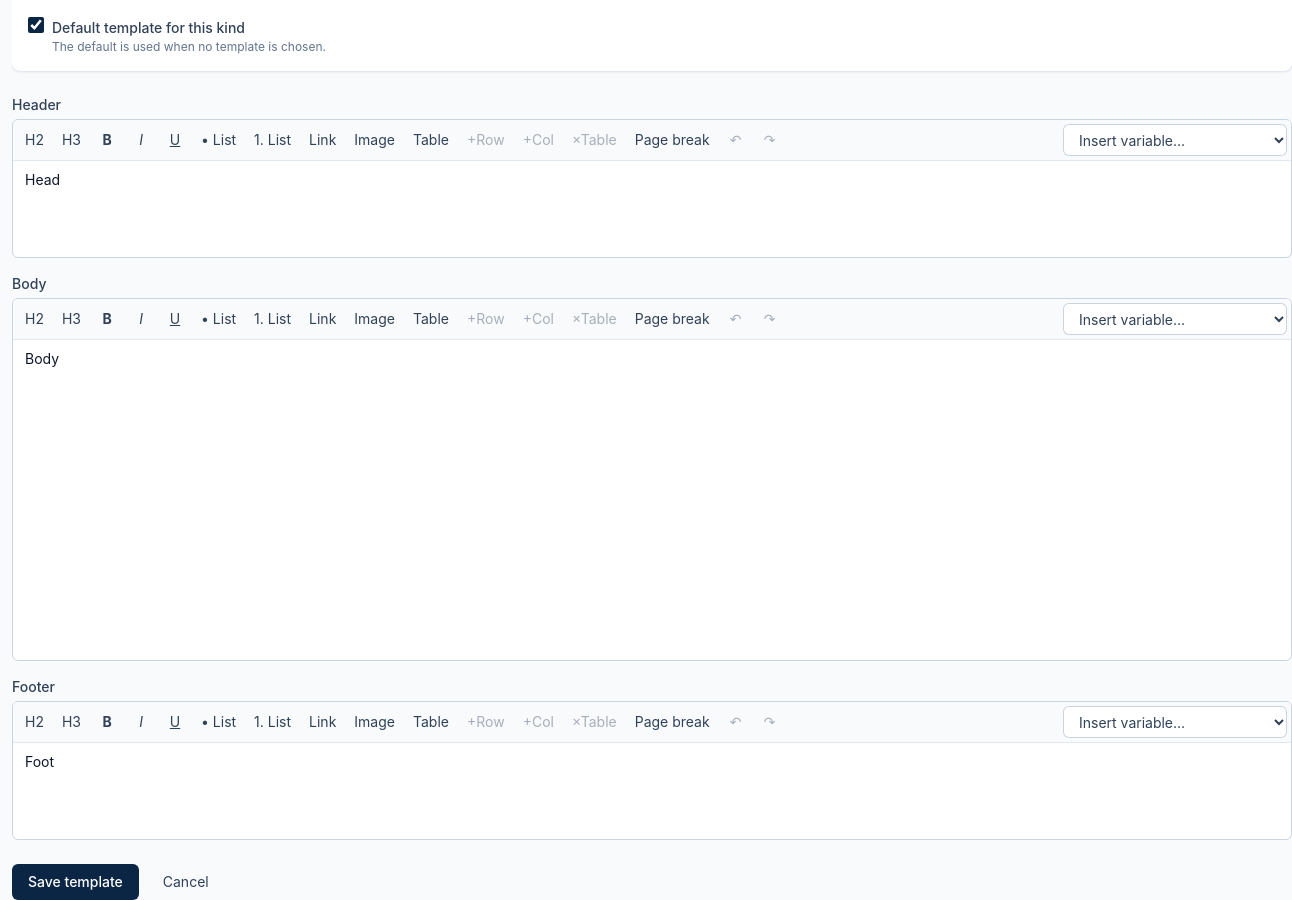
Test: document template editor › saves with the locked kind and warns about unknown tags returned by the server
(page scrolled)
Click the button "Save template". click: [75, 882]
box: x1=12 y1=864 x2=139 y2=899
(page scrolled)
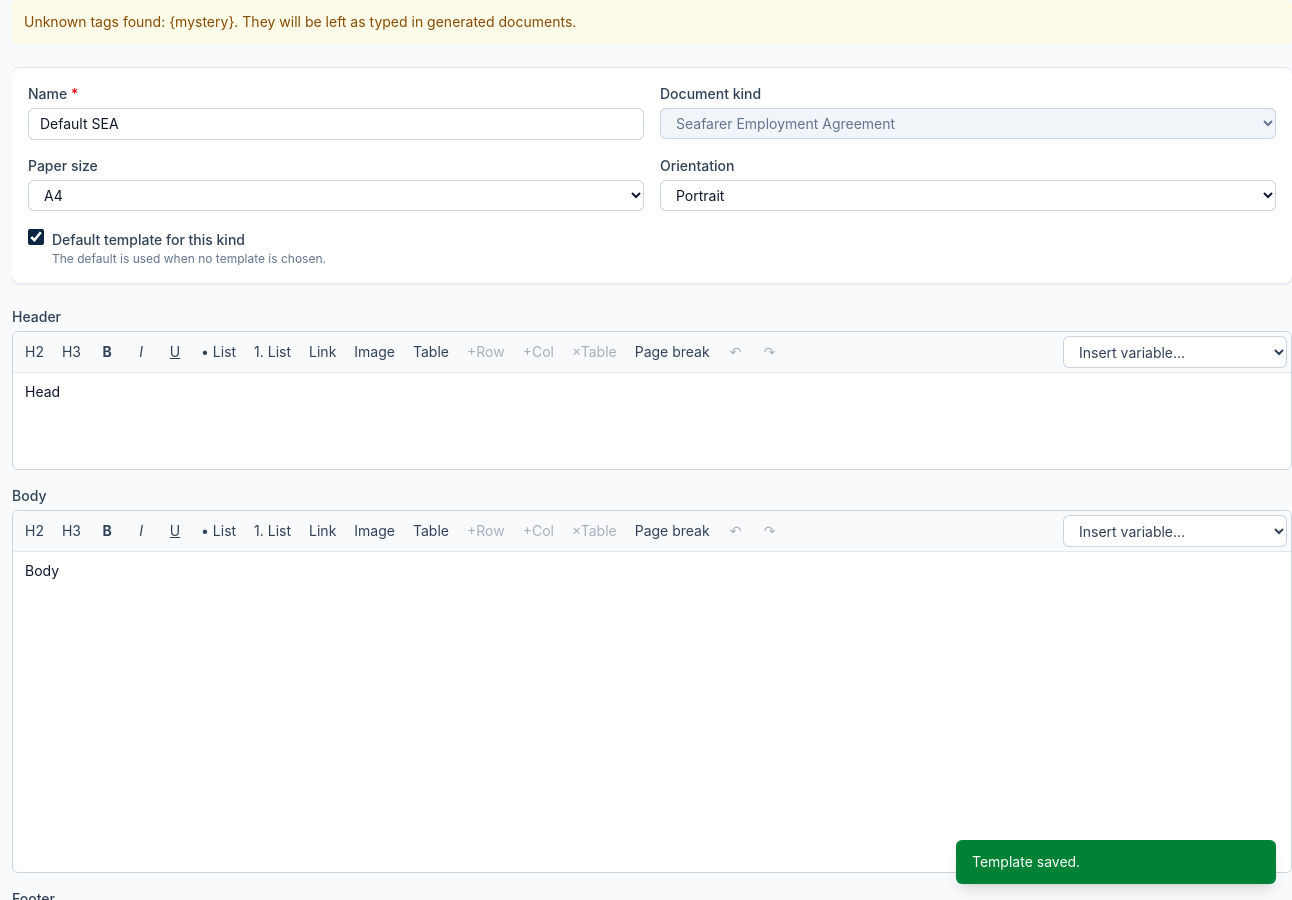
Expected: the text "{mystery}" is shown, x1=169 y1=13 x2=234 y2=30
